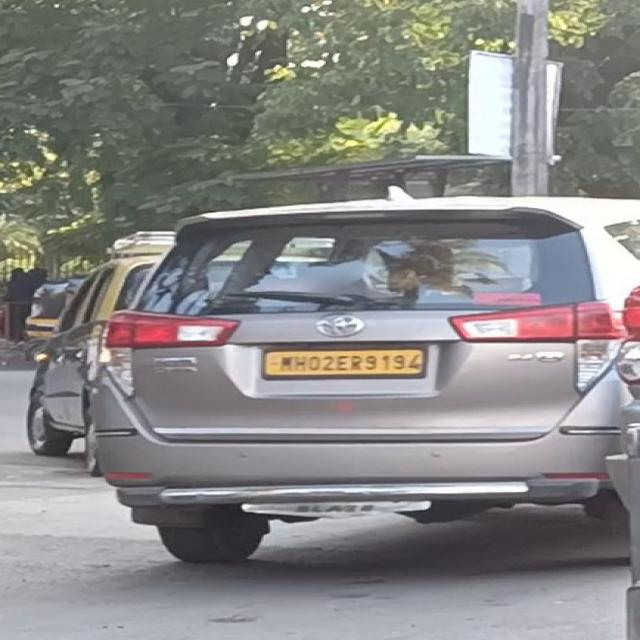Plate: (262, 348, 424, 375)
